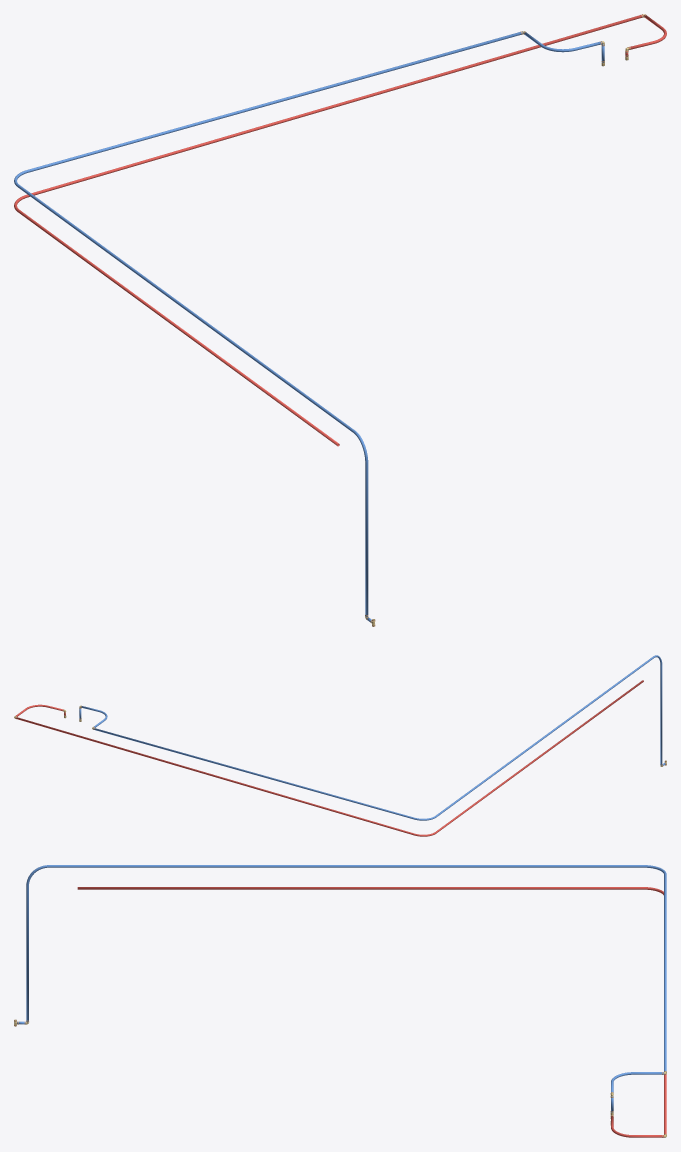
Rendered from slab_pipes_supply__water_heater-garage_hybrid_and_plumbing-pex_branch.glb.
The picture shows the model from 3 angles, top to bottom: view 1: azimuth 30°, elevation 25°; view 2: azimuth 150°, elevation 25°; view 3: azimuth 270°, elevation 25°; orthographic projection. The views are drawn at different scales.
Visible parts, largest first — view 1: pipe_supply_tb_cold_wh_hybrid, pipe_supply_tb_hot_wh_hybrid; view 2: pipe_supply_tb_cold_wh_hybrid, pipe_supply_tb_hot_wh_hybrid; view 3: pipe_supply_tb_cold_wh_hybrid, pipe_supply_tb_hot_wh_hybrid.
Part boxes in pixels (<box>): pipe_supply_tb_cold_wh_hybrid: <box>14,31,604,622</box>; pipe_supply_tb_hot_wh_hybrid: <box>14,14,666,446</box>; pipe_supply_tb_cold_wh_hybrid: <box>79,655,665,820</box>; pipe_supply_tb_hot_wh_hybrid: <box>15,680,643,836</box>; pipe_supply_tb_cold_wh_hybrid: <box>17,865,666,1112</box>; pipe_supply_tb_hot_wh_hybrid: <box>77,887,666,1137</box>.
Size of the model in its own units: 5.4 by 1.62 by 5.39.
